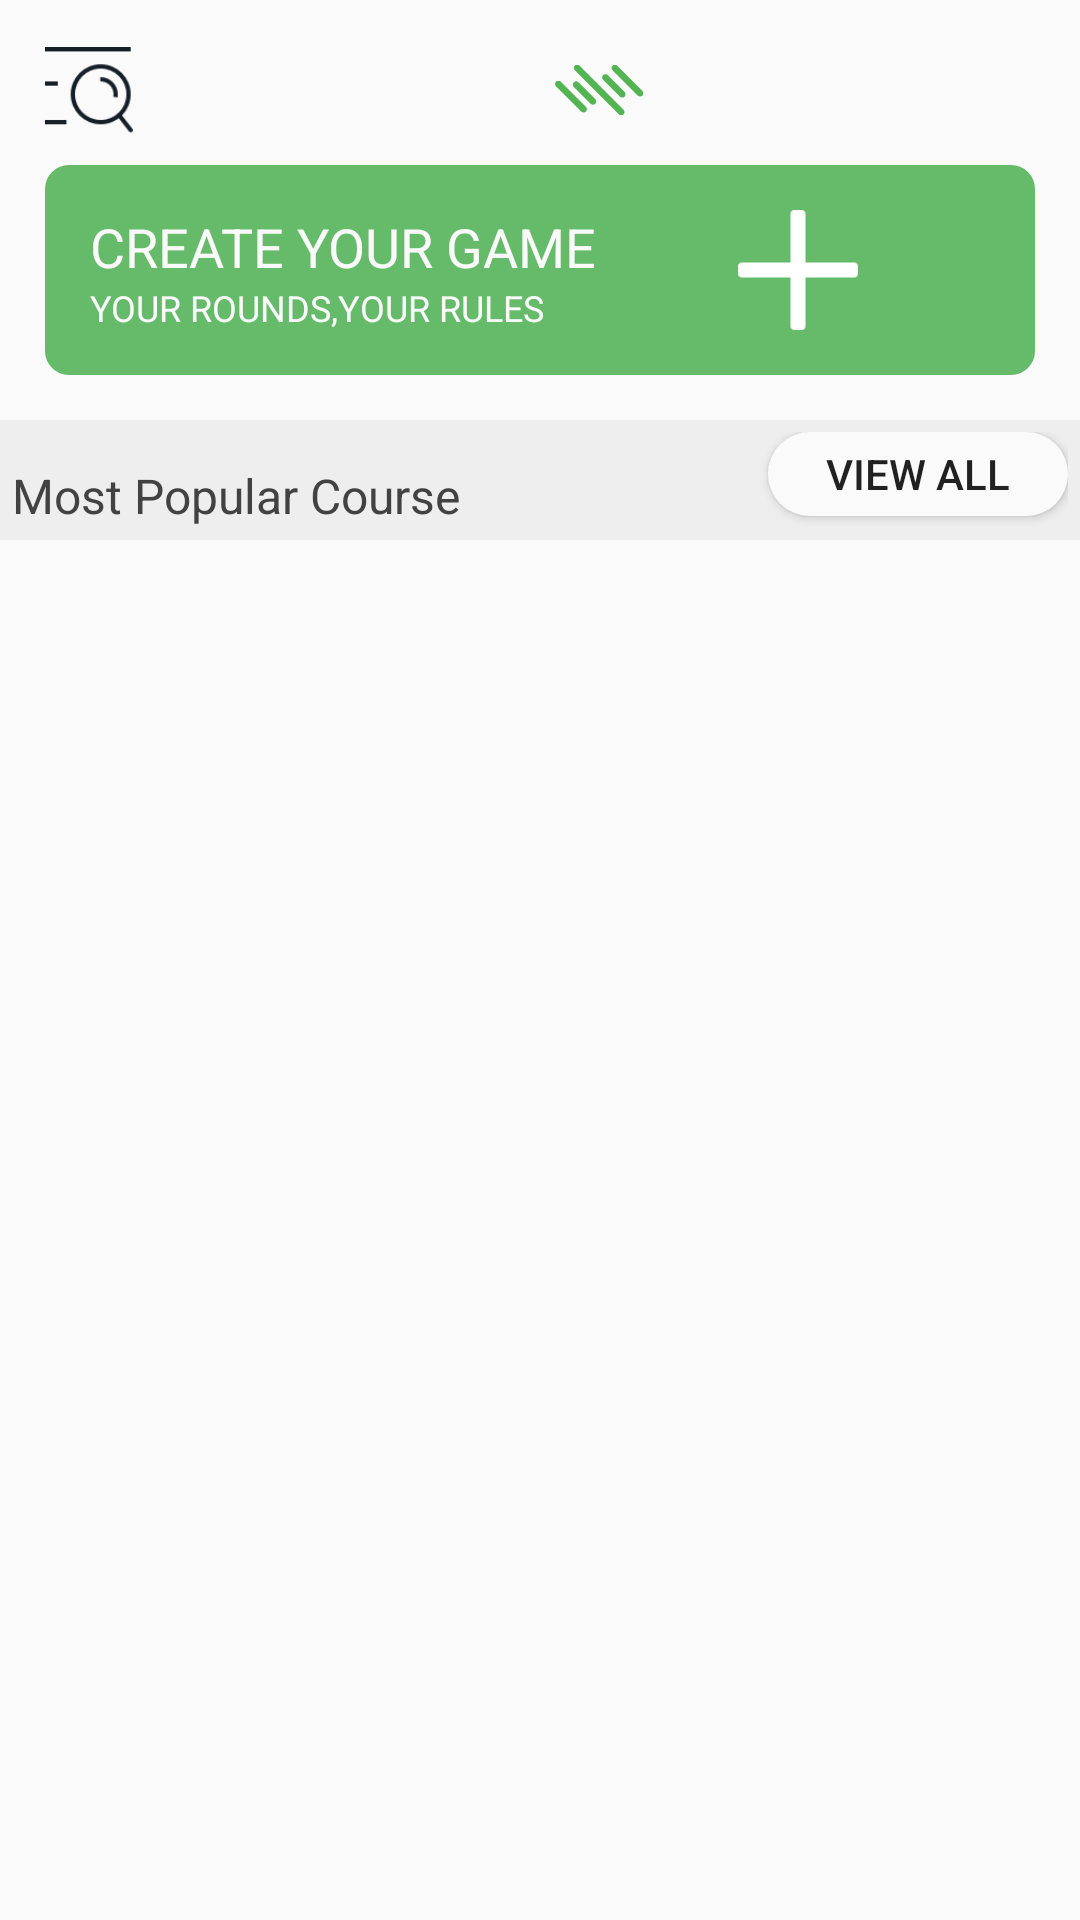

Named icons in this screenshot (1080px×1920px) and their centers, point (x, y):
create game plus: point (798, 270)
search course: point (89, 90)
